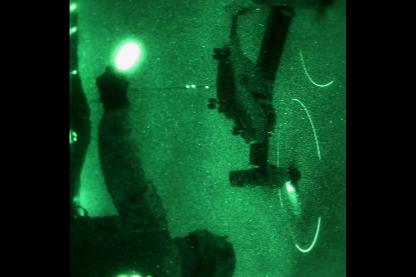Tornado: (207, 0, 346, 252)
